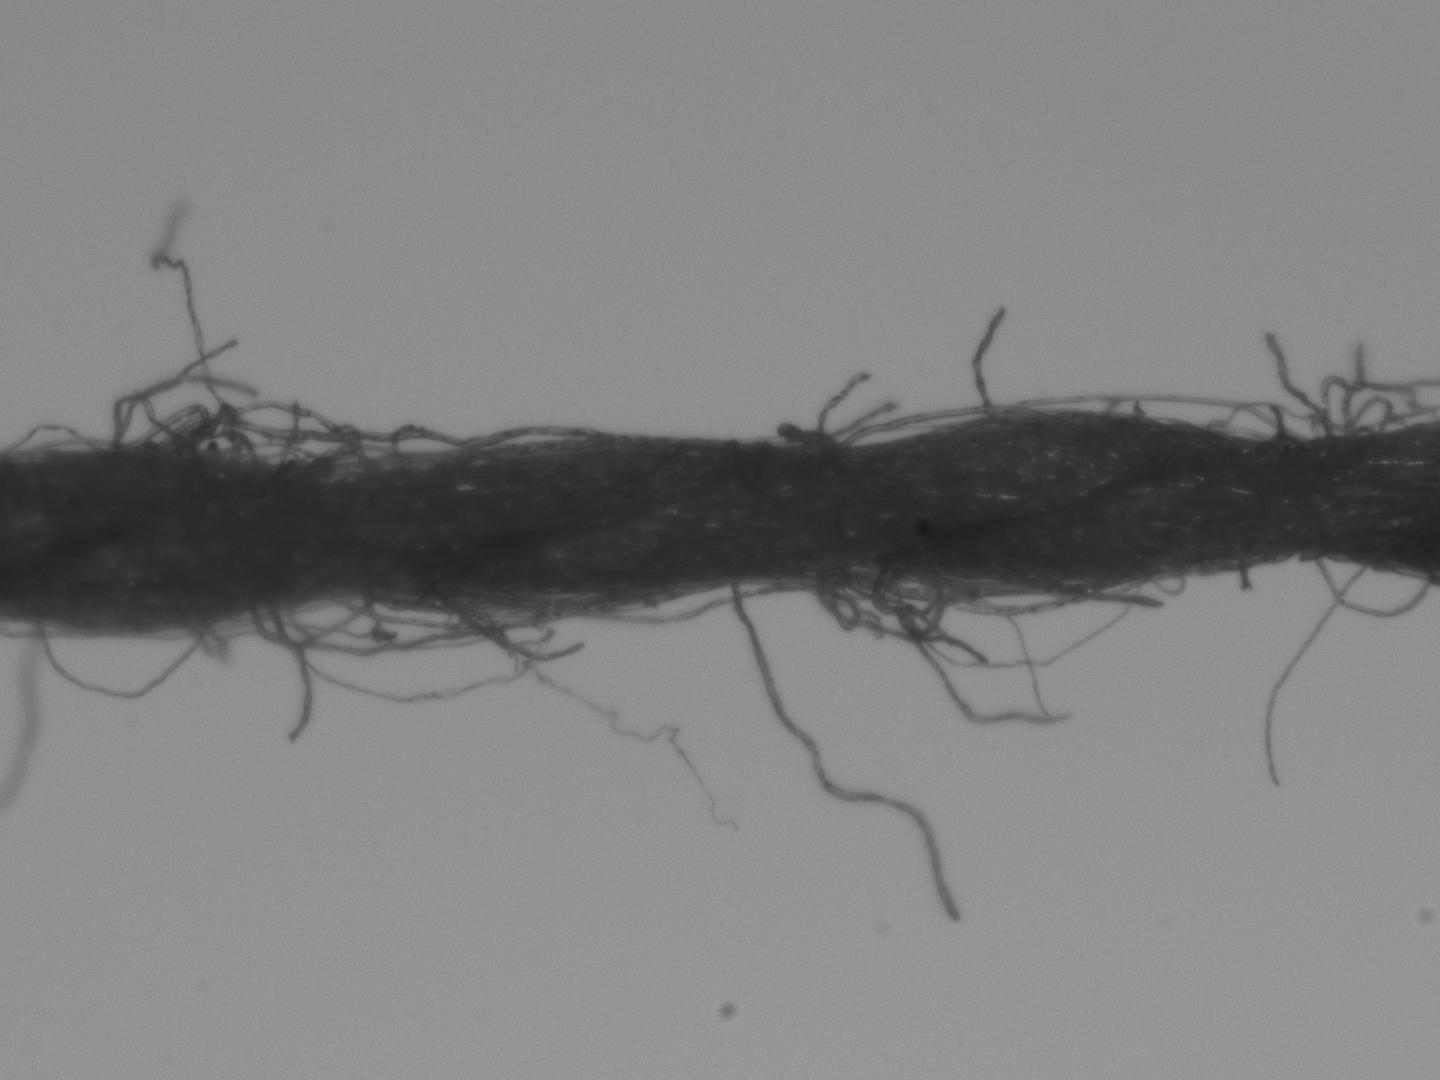loop_fiber: (247, 594, 586, 655), (587, 577, 806, 624), (839, 403, 1043, 452), (1313, 552, 1428, 615), (948, 575, 1117, 615), (465, 421, 600, 452), (133, 405, 212, 455), (3, 422, 92, 456)
protruding_fiber: (730, 584, 964, 931), (1268, 568, 1359, 784), (269, 602, 310, 751), (812, 369, 866, 438), (976, 310, 1007, 421), (1235, 562, 1248, 588)
